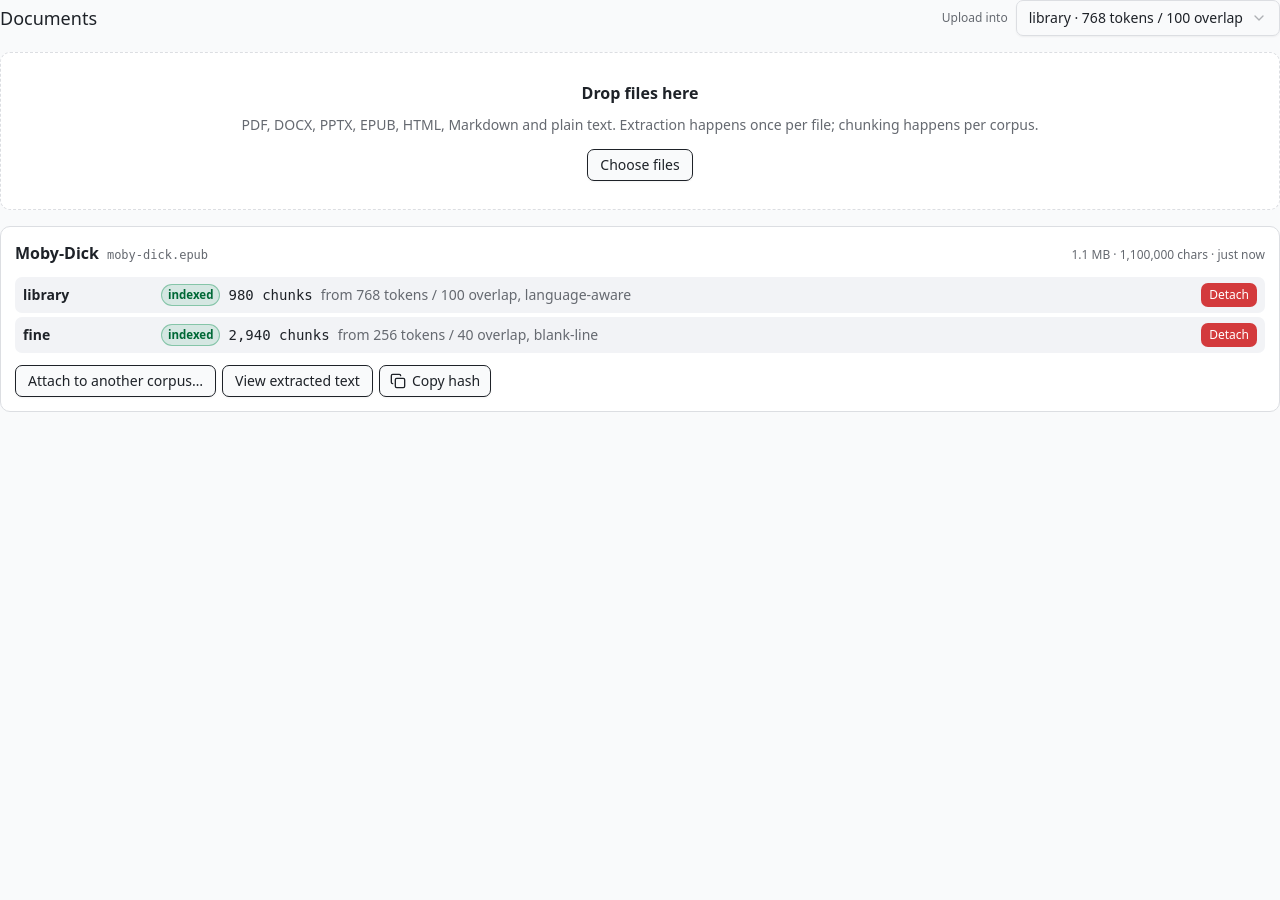
it: the document library › says how the attached copy will be chunked before it is attached
The width and height of the screenshot is (1280, 900).
Click the button "Attach to another corpus…": [116, 381] box [15, 365, 216, 397]
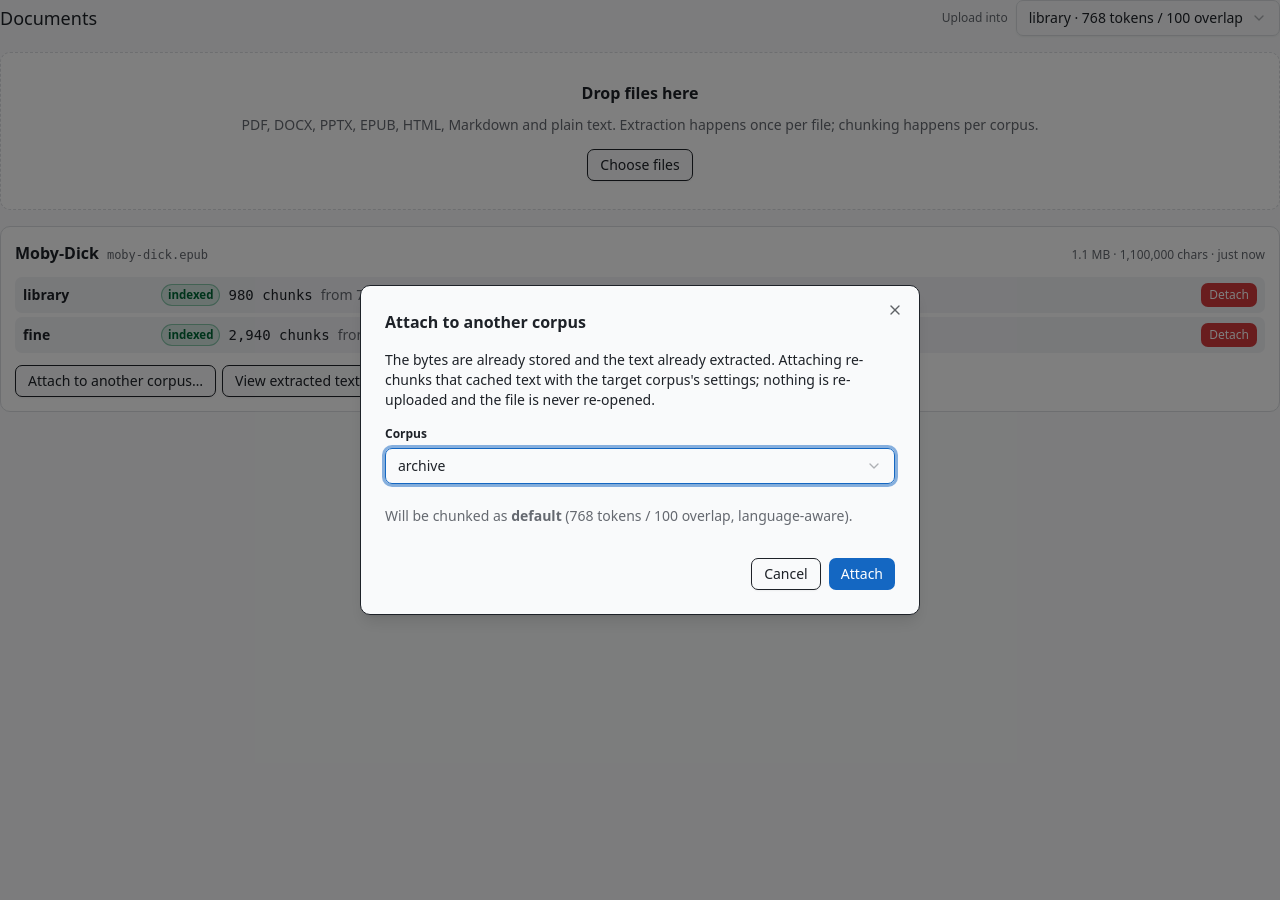
expect the text "nothing is re-uploaded" is shown: met, box [385, 350, 863, 409]
expect the text "default (768 tokens / 100 overlap, language-aware)" is shown: met, box [511, 506, 849, 525]
